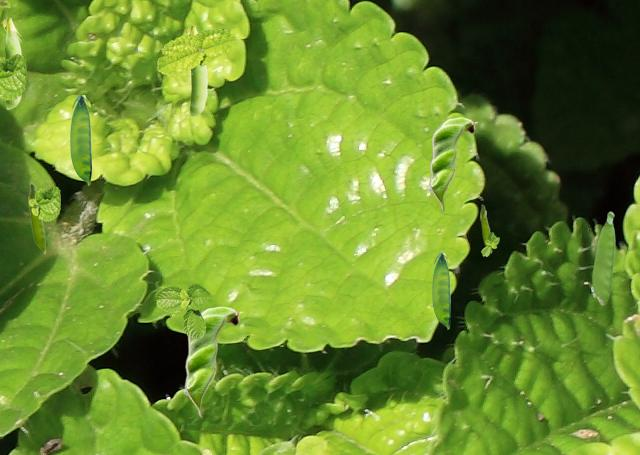pea: (183, 306, 242, 417), (428, 117, 477, 210), (592, 211, 614, 304), (185, 23, 206, 116), (1, 15, 22, 108), (70, 95, 90, 184), (432, 253, 449, 328), (28, 183, 45, 253), (480, 204, 491, 252)
